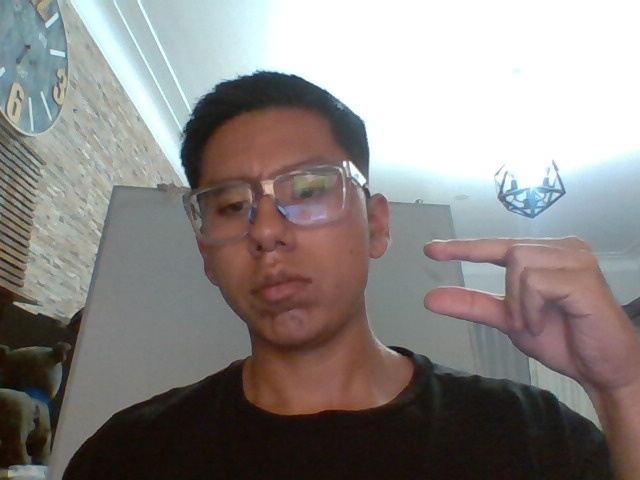No: (419, 235, 639, 394)
